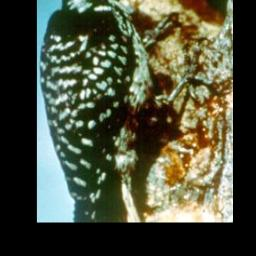Woodpecker: (40, 0, 222, 221)
